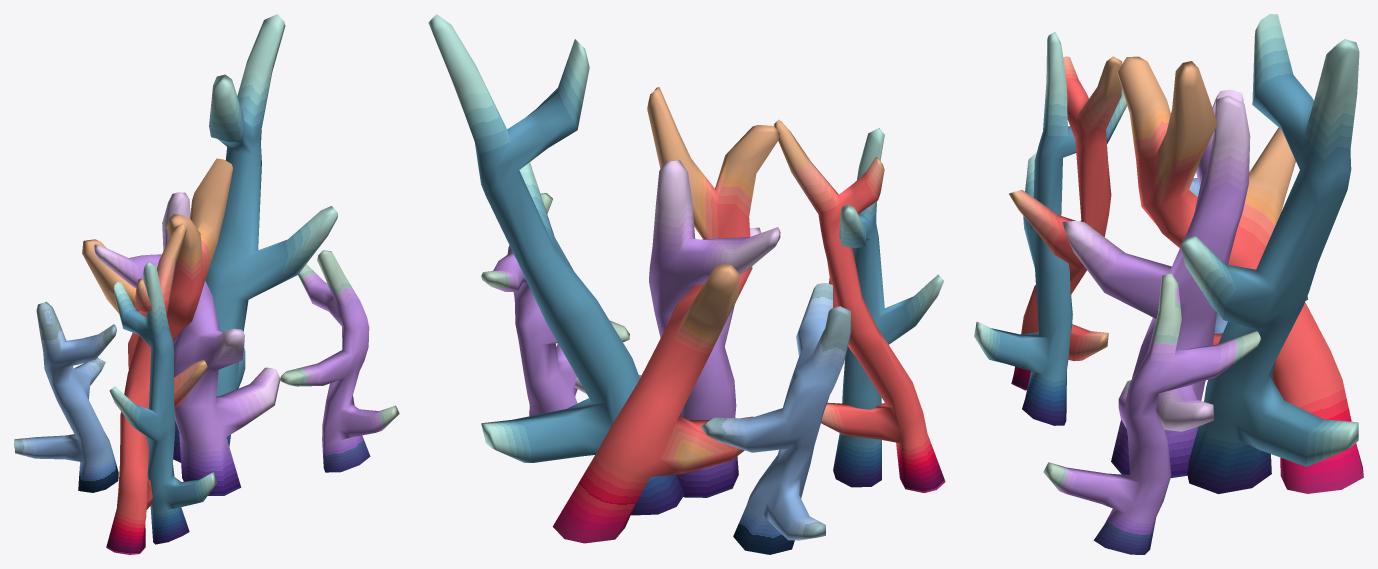
File: SM_coralCluster.fbx
3 views of the same model, side by side, from view 1: azimuth 30°, elevation 25°; view 2: azimuth 150°, elevation 25°; view 3: azimuth 270°, elevation 25° (orthographic). The views are drawn at different scales.
Visible parts, largest first — view 1: SM_coralCluster; view 2: SM_coralCluster; view 3: SM_coralCluster.
Boxes of the visible parts, bbox=[...] form: SM_coralCluster: bbox=[14, 14, 399, 554]; SM_coralCluster: bbox=[428, 14, 945, 554]; SM_coralCluster: bbox=[974, 14, 1363, 554].
Bounding box in the file's own units: 114 × 143 × 95.79.
1 material, 1 textured.
